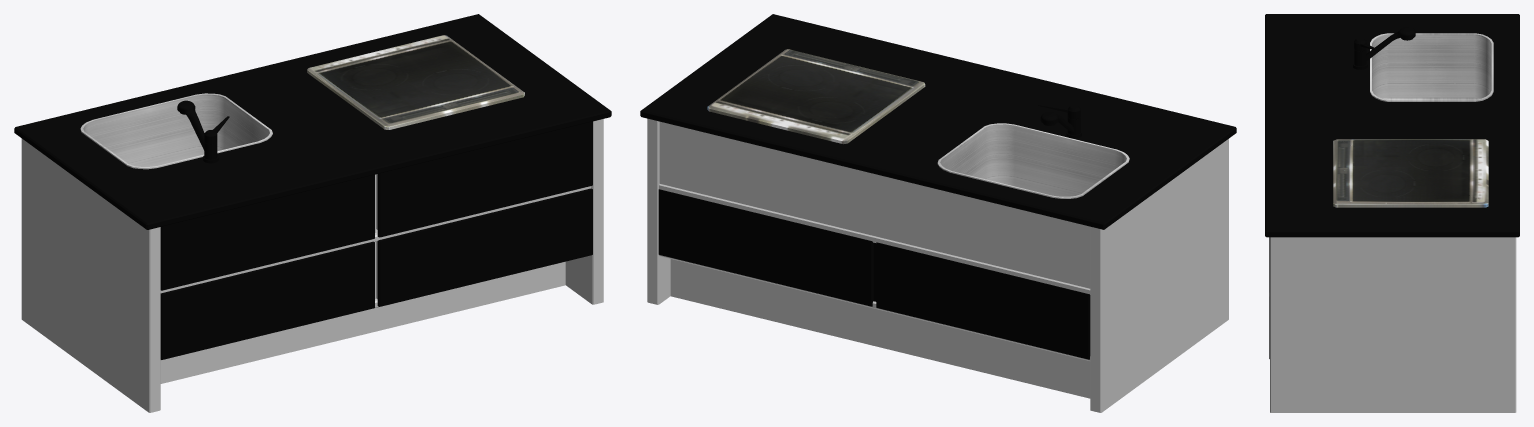
The model's file is systemkitchen_A.fbx.
The picture shows the model from 3 angles, left to right: view 1: azimuth 30°, elevation 25°; view 2: azimuth 150°, elevation 25°; view 3: azimuth 270°, elevation 25°; orthographic projection. The views are drawn at different scales.
Visible parts, largest first — view 1: systemkitchen_A; view 2: systemkitchen_A; view 3: systemkitchen_A.
Boxes of the visible parts, x1,y1,x2,y2 form: systemkitchen_A: [14, 14, 611, 412]; systemkitchen_A: [640, 14, 1236, 412]; systemkitchen_A: [1265, 14, 1519, 412].
Bounding box in the file's own units: 181 × 86.07 × 89.37.
6 materials, 2 textured.
